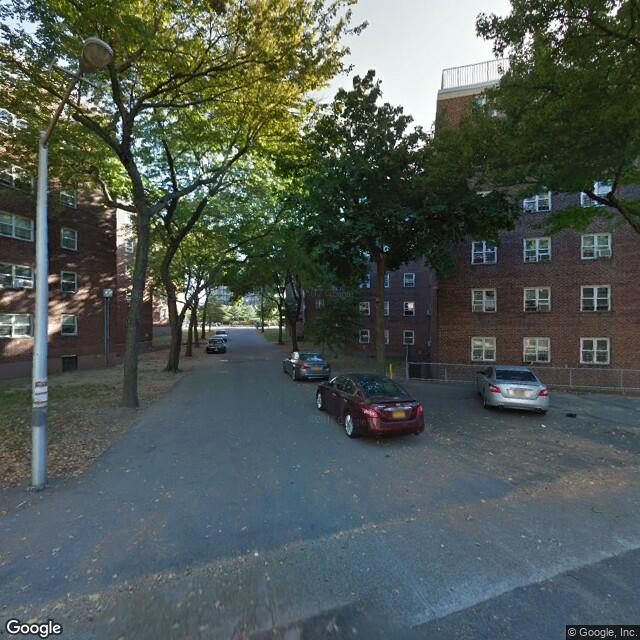litter: (253, 550, 260, 558), (539, 423, 548, 428)
